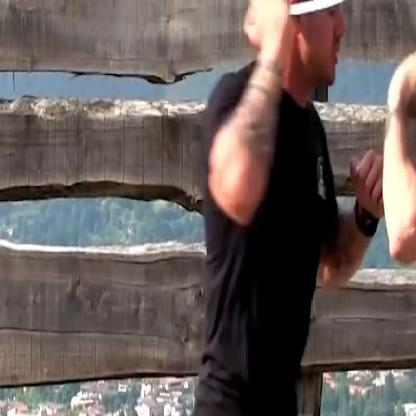knife: (241, 0, 351, 44)
